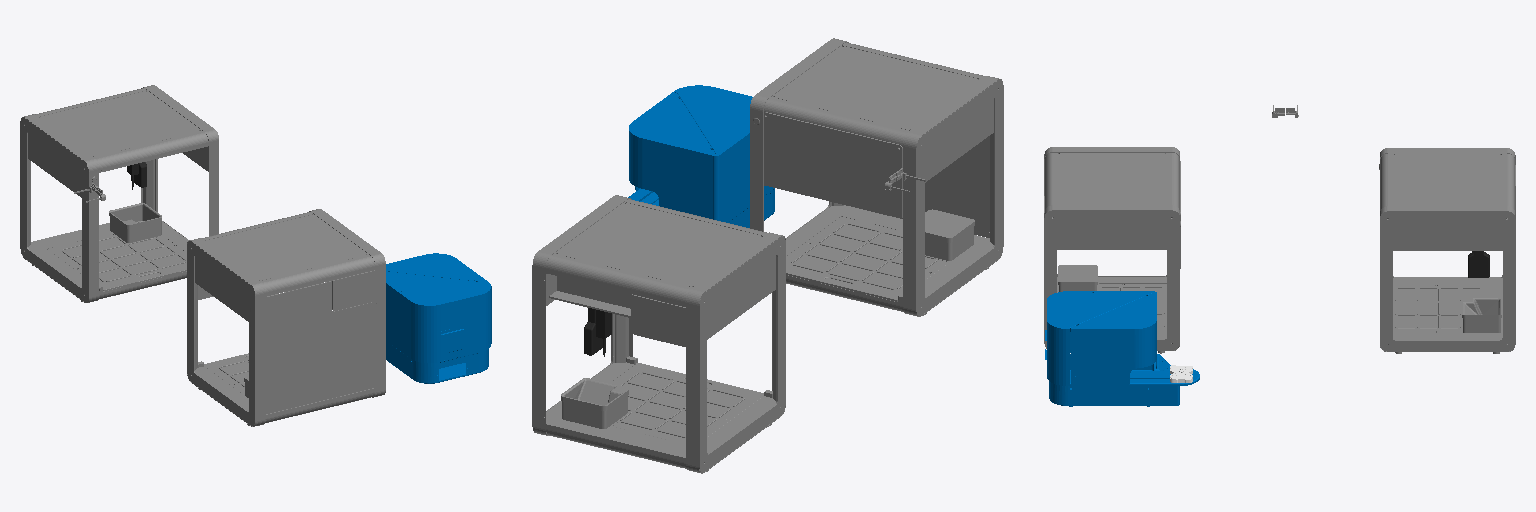
URDF robot description (PCR Workcell):
<robot name="PCR Workcell" >

  <!-- Materials -->

  <material name="white">
    <color rgba="1 1 1 1"/>
  </material>

  <material name="black">
    <color rgba="0.2 0.2 0.2 1"/>
  </material>

  <material name="blue">
    <color rgba="0 0 0.8 1"/>
  </material>

  <material name="red">
    <color rgba="0.8 0.2 0.2 1"/>
  </material>

  <material name="pink">
    <color rgba="0.6 0.4 0.6 1"/>
  </material>

  <material name="dark_grey">
    <color rgba="0.4 0.4 0.4 1"/>
  </material>

  <material name="light_grey">
    <color rgba="0.9 0.9 0.9 1"/>
  </material>

  <material name="dark_blue">
    <color rgba="0.011764705882352941 0.027450980392156862 0.29215686274509803 1.0"/>
  </material>

  <material name="light_blue">
    <color rgba="0 0.5 0.8 1.0"/>
  </material>

  <material name="darkbluegrey" >
    <color rgba="0.12156862745098039 0.23137254901960785 0.30196078431372547 1.0" />
  </material>
  
  <material name="darkbluegreen" >
    <color rgba="0.0 0.1 0.13 1.0" />
  </material>

  <material name="aluminum">
    <color rgba="0.6 0.6 0.6 1"/>
  </material>

  <!-- Links -->

  <link name="Peeler_Base">
    <visual>
      <origin xyz="0 0 0" rpy="1.5708 0 0"/>
      <geometry>
        <mesh filename="package://pf400_description/meshes/peeler_base.STL" scale="0.001 0.001 0.001"/>
      </geometry>
      <material name="light_blue"/>
    </visual>
  </link>

  <link name="Peeler_Plate">
    <visual>
      <origin xyz="0 0 0" rpy="0 0 0"/>
      <geometry>
        <mesh filename="package://pf400_description/meshes/peeler_plate.STL" scale="0.001 0.001 0.001"/>
      </geometry>
      <material name="white"/>
    </visual>
  </link>
  
  <link name="Sealer_Base">
    <visual>
      <origin xyz="0 0 0" rpy="1.5708 0 1.5708"/>
      <geometry>
        <mesh filename="package://pf400_description/meshes/sealer_base.STL" scale="0.001 0.001 0.001"/>
      </geometry>
      <material name="pink"/>
    </visual>
  </link>

  <link name="Sealer_Plate">
    <visual>
      <origin xyz="0 0 0" rpy="0 1.5708 0"/>
      <geometry>
        <mesh filename="package://pf400_description/meshes/sealer_plate.STL" scale="0.001 0.001 0.001"/>
      </geometry>
      <material name="aluminum"/>
    </visual>
  </link>

  <link name="Thermocycler_Base">
    <visual>
      <origin xyz="0 0.5 1.042" rpy="1.5708 0 0"/>
      <geometry>
        <mesh filename="package://pf400_description/meshes/thermocycler_base.STL" scale="0.001 0.001 0.001"/>
      </geometry>
      <material name="light_grey"/>
    </visual>
  </link>

  <link name="Thermocycler_Cap">
    <visual>
      <origin xyz="0 0 0" rpy="0 0 0"/>
      <geometry>
        <mesh filename="package://pf400_description/meshes/thermocycler_cap.STL" scale="0.001 0.001 0.001"/>
      </geometry>
      <material name="red"/>
    </visual>
  </link>

  <link name="OT2">
    <visual>
      <origin xyz="0.36 0.94 1.042" rpy="0 0 0"/>
      <geometry>
        <mesh filename="package://pf400_description/meshes/OT2_base.stl" scale="1 1 1"/>
      </geometry>
      <material name="aluminum"/>
    </visual>
  </link>

  <link name="OT2_pipette_rail">
    <visual>
      <origin xyz="0.36 1.15 1.042" rpy="0 0 0"/>
      <geometry>
        <mesh filename="package://pf400_description/meshes/OT2_rail.stl" scale="1 1 1"/>
      </geometry>
      <material name="aluminum"/>
    </visual>
  </link>

  <link name="OT2_pipette_base">
    <visual>
      <origin xyz="0.51 1.15 1.042" rpy="0 0 0"/>
      <geometry>
        <mesh filename="package://pf400_description/meshes/OT2_pipette_base.stl" scale="1 1 1"/>
      </geometry>
      <material name="aluminum"/>
    </visual>
  </link>

  <link name="OT2_single_pipette">
    <visual>
      <origin xyz="0.79 0.76 1.27" rpy="1.5708 0 1.5708"/>
      <geometry>
        <mesh filename="package://pf400_description/meshes/pipette.STL" scale="0.001 0.001 0.001"/>
      </geometry>
      <material name="black"/>
    </visual>
  </link>

  <link name="OT2_8_channel_pipette">
    <visual>
      <origin xyz="0.51 1.15 1.042" rpy="0 0 0"/>
      <geometry>
        <mesh filename="package://pf400_description/meshes/OT2_8ch_pipette.stl" scale="1 1 1"/>
      </geometry>
      <material name="black"/>
    </visual>
  </link>

  <link name="OT2_2">
    <visual>
      <origin xyz="0.975 -1.02 1.042" rpy="1.5708 0 3.1416"/>
      <geometry>
        <mesh filename="package://pf400_description/meshes/OT_2_without_pipette.STL" scale="0.001 0.001 0.001"/>
      </geometry>
      <material name="aluminum"/>
    </visual>
  </link>

  <link name="module_cart_link_1">
    <visual>
      <origin xyz="1.32 0.847 0" rpy="0 0 0"/>
      <geometry>
        <mesh filename="package://pf400_description/meshes/module_cart.stl" scale="1 1 1"/>
      </geometry>
      <material name="darkbluegreen"/>
    </visual>
  </link>

  <link name="module_cart_link_2">
    <visual>
      <origin xyz="0.51 0.847 0" rpy="0 0 0"/>
      <geometry>
        <mesh filename="package://pf400_description/meshes/module_cart.stl" scale="1 1 1"/>
      </geometry>
      <material name="darkbluegreen"/>
    </visual>
  </link>

  <link name="module_cart_link_3">
    <visual>
      <origin xyz="-0.368 0.847 0" rpy="0 0 0"/>
      <geometry>
        <mesh filename="package://pf400_description/meshes/module_cart.stl" scale="1 1 1"/>
      </geometry>
      <material name="darkbluegreen"/>
    </visual>
  </link>

  <link name="module_cart_link_4">
    <visual>
      <origin xyz="-1.18 0.847 0" rpy="0 0 0"/>
      <geometry>
        <mesh filename="package://pf400_description/meshes/module_cart.stl" scale="1 1 1"/>
      </geometry>
      <material name="darkbluegreen"/>
    </visual>
  </link>

  <link name="module_cart_link_5">
    <visual>
      <origin xyz="1.32  -0.548 0" rpy="0 0 0"/>
      <geometry>
        <mesh filename="package://pf400_description/meshes/module_cart.stl" scale="1 1 1"/>
      </geometry>
      <material name="darkbluegreen"/>
    </visual>
  </link>
  
  <link name="module_cart_link_6">
    <visual>
      <origin xyz="0.51 -0.548 0" rpy="0 0 0"/>
      <geometry>
        <mesh filename="package://pf400_description/meshes/module_cart.stl" scale="1 1 1"/>
      </geometry>
      <material name="darkbluegreen"/>
    </visual>
  </link>

  <link name="module_cart_link_7">
    <visual>
      <origin xyz="-0.368 -0.548 0" rpy="0 0 0"/>
      <geometry>
        <mesh filename="package://pf400_description/meshes/module_cart.stl" scale="1 1 1"/>
      </geometry>
      <material name="darkbluegreen"/>
    </visual>
  </link>

  <link name="module_cart_link_8">
    <visual>
      <origin xyz="-1.18 -0.548 0" rpy="0 0 0"/>
      <geometry>
        <mesh filename="package://pf400_description/meshes/module_cart.stl" scale="1 1 1"/>
      </geometry>
      <material name="darkbluegreen"/>
    </visual>
  </link>

  <link name="pf400_module">
    <visual>
      <origin xyz="-1.63 2.347 -1.11" rpy="1.5708 0 0"/>
      <geometry>
        <mesh filename="package://pf400_description/meshes/PF400_module.STL" scale="0.001 0.001 0.001"/>
      </geometry>
      <material name="darkbluegreen"/>
    </visual>
  </link>

  <link name="rail_base">
    <visual>
      <origin xyz="0.125 -0.0198 1.015" rpy="0 0 1.5708"/>
      <geometry>
        <mesh filename="package://pf400_description/meshes/rail_base.STL" scale="1 1 1"/>
      </geometry>
      <material name="white"/>
    </visual>
  </link>

  <link name="rail">
    <visual>
      <origin xyz="0.1309 -0.0198 1.047" rpy="1.5708 0 1.5708"/>
      <geometry>
        <mesh filename="package://pf400_description/meshes/rail.STL" scale="1 1 1"/>
      </geometry>
      <material name="white"/>
    </visual>
  </link>

  <link name="z_column">
    <visual>
      <origin xyz="0 0 1.089" rpy="0 0 0"/>
      <geometry>
        <mesh filename="package://pf400_description/meshes/PF400_Z_Column.STL" scale="0.001 0.001 0.00132"/>
      </geometry>
      <material name="white"/>
    </visual>
  </link>

  <link name="z_carriage">
    <visual>
      <origin xyz="0 0 1.089" rpy="0 0 0"/>
      <geometry>
        <mesh filename="package://pf400_description/meshes/PF400_Z_Carriage.STL" scale="0.001 0.001 0.001"/>
      </geometry>
      <material name="white"/>
    </visual>
  </link>

  <link name="inner_link">
    <visual>
      <origin xyz="0 0 1.089" rpy="0 0 0"/>
      <geometry>
        <mesh filename="package://pf400_description/meshes/PF400_Inner_Link.STL" scale="0.001 0.001 0.001"/>
      </geometry>
      <material name="white"/>
    </visual>
  </link>

  <link name="outer_link">
    <visual>
      <origin xyz="0 0 1.089" rpy="0 0 0"/>
      <geometry>
        <mesh filename="package://pf400_description/meshes/PF400_Outer_Link.STL" scale="0.001 0.001 0.001"/>
      </geometry>
      <material name="white"/>
    </visual>
  </link>

  <link name="hand">
    <visual>
      <origin xyz="0 0 1.089" rpy="0 0 0"/>
      <geometry>
        <mesh filename="package://pf400_description/meshes/PF400_Hand.STL" scale="0.001 0.001 0.001"/>
      </geometry>
      <material name="white"/>
    </visual>
  </link>

  <link name="left_finger">
    <visual>
      <origin xyz="-0.02 -0.053 1.0685" rpy="0 0 0"/>
      <geometry>
        <mesh filename="package://pf400_description/meshes/pf400_left_finger.STL" scale="0.001 0.001 0.001"/>
      </geometry>
      <material name="aluminum"/>
    </visual>
  </link>

  <link name="right_finger">
    <visual>
      <origin xyz="-0.021 -0.028 1.12" rpy="-1.5708 0 0"/>
      <geometry>
        <mesh filename="package://pf400_description/meshes/pf400_right_finger.STL" scale="0.001 0.001 0.001"/>
      </geometry>
      <material name="aluminum"/>
    </visual>
  </link>



  <!-- Joints -->

  <joint name="J1" type="prismatic">
    <parent link="z_column"/>
    <child link="z_carriage"/>
    <axis xyz="0 0 1"/>
    <origin xyz="0.03005 -0.0198 0.17535" rpy="0 0 0"/>
    <limit effort="1000.0" lower="0.002" upper="1.160" velocity="0.5"/>  </joint>

  <joint name="J2" type="revolute">
    <parent link="z_carriage"/>
    <child link="inner_link"/>
    <axis xyz="0 0 1"/>
    <origin xyz="0.173001 0.020 0.0235" rpy="0 0 0"/>
    <limit effort="1000.0" lower="-1.62316" upper="1.62316" velocity="0.5"/>
  </joint>

  <joint name="J3" type="revolute">
    <parent link="inner_link"/>
    <child link="outer_link"/>
    <axis xyz="0 0 1"/>
    <origin xyz="0.302 0 -0.072285" rpy="0 0 0"/>
    <limit effort="1000.0" lower="0.175" upper="6.1" velocity="0.5"/>
  </joint>

  <joint name="J4" type="revolute">
    <parent link="outer_link"/>
    <child link="hand"/>
    <axis xyz="0 0 1"/>
    <origin xyz="0.289 0 -0.032942" rpy="0 0 0"/>
    <limit effort="1000.0" lower="-16.7552" upper="16.7552" velocity="0.5"/>
  </joint>

  <joint name="J5" type="prismatic">
    <parent link="hand"/>
    <child link="left_finger"/>
    <axis xyz="0 1 0"/>
    <origin xyz="0.078573 0 -0.04269" rpy="0 0 0"/>
    <limit effort="1000.0" lower="0.04" upper="0.0675" velocity="0.5"/>
  </joint>

  <joint name="J5_mirror" type="prismatic">
    <parent link="hand"/>
    <child link="right_finger"/>
    <axis xyz="0 -1 0"/>
    <origin xyz="0.078573 0 -0.04269" rpy="0 0 0"/>
    <limit effort="1000.0" lower="0.04" upper="0.0675" velocity="0.5"/>
    <mimic joint="J5" multiplier="1"/>
  </joint>

  <joint name="J6" type="prismatic">
    <parent link="rail_base"/>
    <child link="rail"/>
    <axis xyz="1 0 0"/>
    <origin xyz="0 0 0" rpy="0 0 0"/>
    <limit effort="1000.0" lower="-1" upper="1" velocity="0.5"/>
  </joint>

  <joint name="rail_link" type="fixed">
    <parent link="rail"/>
    <child link="z_column"/>
    <axis xyz="0 1 0"/>
    <origin xyz="0.03005 -0.0198 0.05" rpy="0 0 0"/>
    <limit effort="1000.0" lower="0" upper="0" velocity="0.5"/>
  </joint>

  <joint name="module_table" type="fixed">
    <parent link="pf400_module"/>
    <child link="rail_base"/>
    <axis xyz="0 0 1"/>
    <origin xyz="0 0 0" rpy="0 0 0"/>
    <limit effort="1000.0" lower="0" upper="0" velocity="0.5"/>
  </joint>

  <joint name="module_cart_link_1" type="fixed">
    <parent link="module_cart_link_1"/>
    <child link="pf400_module"/>
    <axis xyz="0 0 1"/>
    <origin xyz="0 0 0" rpy="0 0 0"/>
    <limit effort="1000.0" lower="0" upper="0" velocity="0.5"/>
  </joint>
  
  <joint name="module_cart_link_2" type="fixed">
    <parent link="module_cart_link_2"/>
    <child link="module_cart_link_1"/>
    <axis xyz="0 0 1"/>
    <origin xyz="0 0 0" rpy="0 0 0"/>
    <limit effort="1000.0" lower="0" upper="0" velocity="0.5"/>
  </joint>

  <joint name="module_cart_link_3" type="fixed">
    <parent link="module_cart_link_3"/>
    <child link="module_cart_link_2"/>
    <axis xyz="0 0 1"/>
    <origin xyz="0 0 0" rpy="0 0 0"/>
    <limit effort="1000.0" lower="0" upper="0" velocity="0.5"/>
  </joint>

  <joint name="module_cart_link_4" type="fixed">
    <parent link="module_cart_link_4"/>
    <child link="module_cart_link_3"/>
    <axis xyz="0 0 1"/>
    <origin xyz="0 0 0" rpy="0 0 0"/>
    <limit effort="1000.0" lower="0" upper="0" velocity="0.5"/>
  </joint>

  <joint name="module_cart_link_5" type="fixed">
    <parent link="module_cart_link_5"/>
    <child link="module_cart_link_4"/>
    <axis xyz="0 0 1"/>
    <origin xyz="0 0 0" rpy="0 0 0"/>
    <limit effort="1000.0" lower="0" upper="0" velocity="0.5"/>
  </joint>

  <joint name="module_cart_link_6" type="fixed">
    <parent link="module_cart_link_6"/>
    <child link="module_cart_link_5"/>
    <axis xyz="0 0 1"/>
    <origin xyz="0 0 0" rpy="0 0 0"/>
    <limit effort="1000.0" lower="0" upper="0" velocity="0.5"/>
  </joint>

  <joint name="module_cart_link_7" type="fixed">
    <parent link="module_cart_link_7"/>
    <child link="module_cart_link_6"/>
    <axis xyz="0 0 1"/>
    <origin xyz="0 0 0" rpy="0 0 0"/>
    <limit effort="1000.0" lower="0" upper="0" velocity="0.5"/>
  </joint>

  <joint name="module_cart_link_8" type="fixed">
    <parent link="module_cart_link_8"/>
    <child link="module_cart_link_7"/>
    <axis xyz="0 0 1"/>
    <origin xyz="0 0 0" rpy="0 0 0"/>
    <limit effort="1000.0" lower="0" upper="0" velocity="0.5"/>
  </joint>

  <joint name="Thermocycler_Base" type="fixed">
    <parent link="module_cart_link_4"/>
    <child link="Thermocycler_Base"/>
    <axis xyz="0 0 1"/>
    <origin xyz="-0.2 0.2 0" rpy="0 0 0"/>
    <limit effort="1000.0" lower="0" upper="0" velocity="0.5"/>
  </joint>

  <joint name="Thermocycler_Cap" type="revolute">
    <parent link="Thermocycler_Base"/>
    <child link="Thermocycler_Cap"/>
    <axis xyz="-1 0 0"/>
    <origin xyz="0 0.466 1.05" rpy="1.5708 0 0"/>
    <limit effort="1000.0" lower="0" upper="1.2" velocity="0.5"/>
  </joint>

  <joint name="Peeler_Base" type="fixed">
    <parent link="module_cart_link_5"/>
    <child link="Peeler_Base"/>
    <axis xyz="0 0 0"/>
    <origin xyz="1.15 -0.37 1.042" rpy="0 0 0"/>
    <limit effort="1000.0" lower="0" upper="0" velocity="0.5"/>
  </joint>

  <joint name="Peeler_Plate" type="prismatic">
    <parent link="Peeler_Base"/>
    <child link="Peeler_Plate"/>
    <axis xyz="0 0 1"/>
    <origin xyz="0.23 -0.03 0.083" rpy="1.5708 0 0"/> 
    <limit effort="1000.0" lower="0" upper="0.3" velocity="0.5"/>
  </joint>

  <joint name="Sealer_Base" type="fixed">
    <parent link="module_cart_link_5"/>
    <child link="Sealer_Base"/>
    <axis xyz="0 0 1"/>
    <origin xyz="1.55 -1.05 1.042" rpy="0 0 0"/> 
    <limit effort="1000.0" lower="0" upper="0" velocity="0.5"/>
  </joint>

  <joint name="Sealer_Plate" type="prismatic">
    <parent link="Sealer_Base"/>
    <child link="Sealer_Plate"/>
    <axis xyz="0 0 1"/>
    <origin xyz="0.057 0.28 0.01" rpy="1.5708 0 0"/>
    <limit effort="1000.0" lower="0" upper="0.25" velocity="0.5"/>
  </joint>

  <joint name="OT2" type="fixed">
    <parent link="module_cart_link_2"/>
    <child link="OT2"/>
    <axis xyz="0 0 1"/>
    <origin xyz="0 0 0" rpy="0 0 0"/>
    <limit effort="1000.0" lower="0" upper="0" velocity="0.5"/>
  </joint>

  <joint name="pipette_rail_y" type="prismatic">
    <parent link="OT2"/>
    <child link="OT2_pipette_rail"/>
    <axis xyz="0 -1 0"/>
    <origin xyz="0 0 0" rpy="0 0 0"/>
    <limit effort="1000.0" lower="0" upper="0.3" velocity="0.5"/>
  </joint>

  <joint name="pipette_rail_x" type="prismatic">
    <parent link="OT2_pipette_rail"/>
    <child link="OT2_pipette_base"/>
    <axis xyz="-1 0 0"/>
    <origin xyz="0 0 0" rpy="0 0 0"/>
    <limit effort="1000.0" lower="0" upper="0.3" velocity="0.5"/>
  </joint>

  <joint name="single_pipette" type="prismatic">
    <parent link="OT2_pipette_base"/>
    <child link="OT2_single_pipette"/>
    <axis xyz="0 0 -1"/>
    <origin xyz="0 0 0" rpy="0 0 0"/>
    <limit effort="1000.0" lower="0" upper="0.18" velocity="0.5"/>
  </joint>

  <joint name="8_channel_pipette" type="prismatic">
    <parent link="OT2_pipette_base"/>
    <child link="OT2_8_channel_pipette"/>
    <axis xyz="0 0 -1"/>
    <origin xyz="0 0 0" rpy="0 0 0"/>
    <limit effort="1000.0" lower="0" upper="0.18" velocity="0.5"/>
  </joint>

  <joint name="OT2_2" type="fixed">
    <parent link="OT2"/>
    <child link="OT2_2"/>
    <axis xyz="0 0 1"/>
    <origin xyz="0 0 0" rpy="0 0 0"/>
    <limit effort="1000.0" lower="0" upper="0" velocity="0.5"/>
  </joint>

</robot>

--- Facts derived from the render (not from the file) ---
3 views of the same robot in one strip: view 1: azimuth 30°, elevation 25°; view 2: azimuth 150°, elevation 25°; view 3: azimuth 270°, elevation 25° (orthographic).
Model PCR Workcell with 30 links and 29 joints (4 revolute, 10 prismatic, 15 fixed), rooted at module_cart_link_8, posed all joints at 0 but 4 set to mid-range because 0 is outside their limits (J1 = 0.581, J3 = 3.14, J5 = 0.0537, J5_mirror = 0.0537).
Links seen in each view (by area): view 1: OT2_2, OT2, Peeler_Base; view 2: OT2_2, OT2, Peeler_Base, OT2_pipette_rail, OT2_8_channel_pipette; view 3: OT2, OT2_2, Peeler_Base, OT2_8_channel_pipette.
Link boxes in pixels (left/top/right/bottom): OT2_2: left=187, top=209, right=385, bottom=426; OT2: left=20, top=85, right=218, bottom=302; Peeler_Base: left=386, top=253, right=491, bottom=383; OT2_2: left=750, top=38, right=1003, bottom=316; OT2: left=532, top=195, right=785, bottom=473; Peeler_Base: left=628, top=85, right=774, bottom=227; OT2_pipette_rail: left=549, top=276, right=631, bottom=317; OT2_8_channel_pipette: left=584, top=308, right=602, bottom=355; OT2: left=1379, top=148, right=1515, bottom=353; OT2_2: left=1044, top=147, right=1180, bottom=353; Peeler_Base: left=1045, top=291, right=1199, bottom=406; OT2_8_channel_pipette: left=1468, top=251, right=1489, bottom=277.
Bounding box of the posed robot: 1.44 × 1.96 × 0.7597 m (x, y, z).
9 mesh visuals loaded from 23 distinct referenced files (9 binary STL); not drawn: 15 (reference not matched to a file when rendering), 6 (file found but could not be loaded).